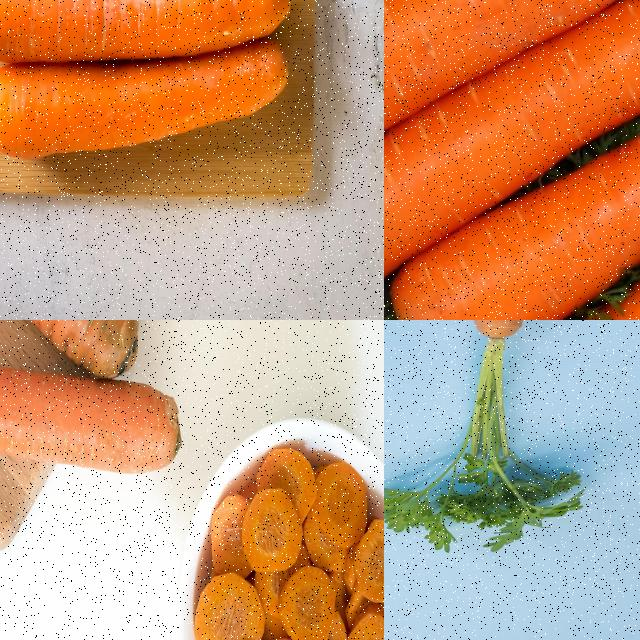carrot: (384, 0, 639, 318), (384, 48, 639, 319), (384, 0, 639, 186), (183, 448, 383, 639), (0, 326, 195, 511), (0, 42, 294, 164), (466, 115, 639, 319), (0, 320, 149, 387)
